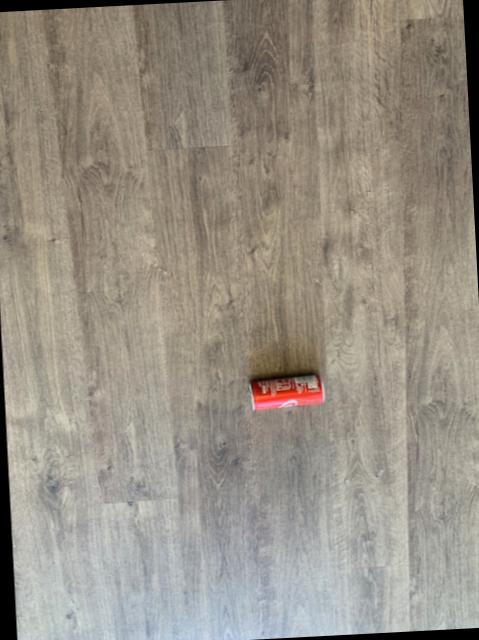metal: (250, 374, 325, 408)
